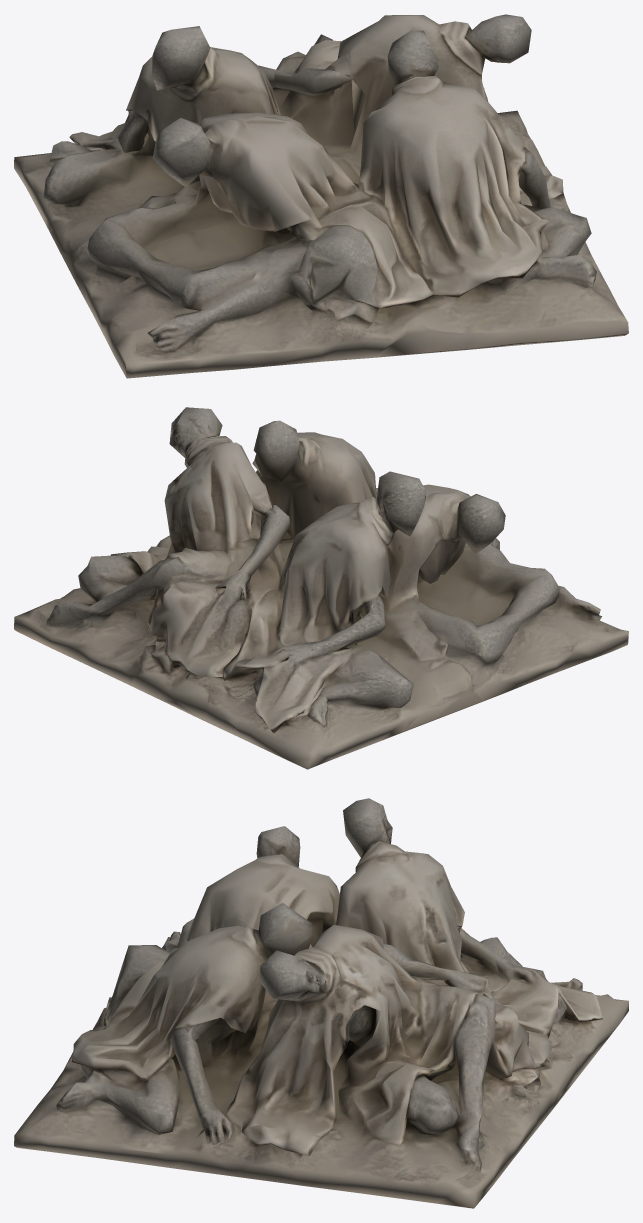
The model's file is model.web.glb.
The picture shows the model from 3 angles, top to bottom: view 1: azimuth 30°, elevation 25°; view 2: azimuth 150°, elevation 25°; view 3: azimuth 270°, elevation 25°; orthographic projection. The views are drawn at different scales.
Visible parts, largest first — view 1: tripo_node_1666932c-7a07-47a8-9483-3369d35cea10; view 2: tripo_node_1666932c-7a07-47a8-9483-3369d35cea10; view 3: tripo_node_1666932c-7a07-47a8-9483-3369d35cea10.
Part boxes in pixels (left/top/right/bottom): tripo_node_1666932c-7a07-47a8-9483-3369d35cea10: left=14, top=14, right=628, bottom=378; tripo_node_1666932c-7a07-47a8-9483-3369d35cea10: left=14, top=407, right=628, bottom=769; tripo_node_1666932c-7a07-47a8-9483-3369d35cea10: left=14, top=798, right=628, bottom=1208.
Size of the model in its own units: 1.1 by 0.45 by 1.12.
1 material, 1 textured.
